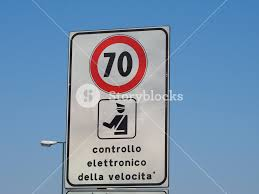Speed_limit_70km: (87, 35, 148, 93)
